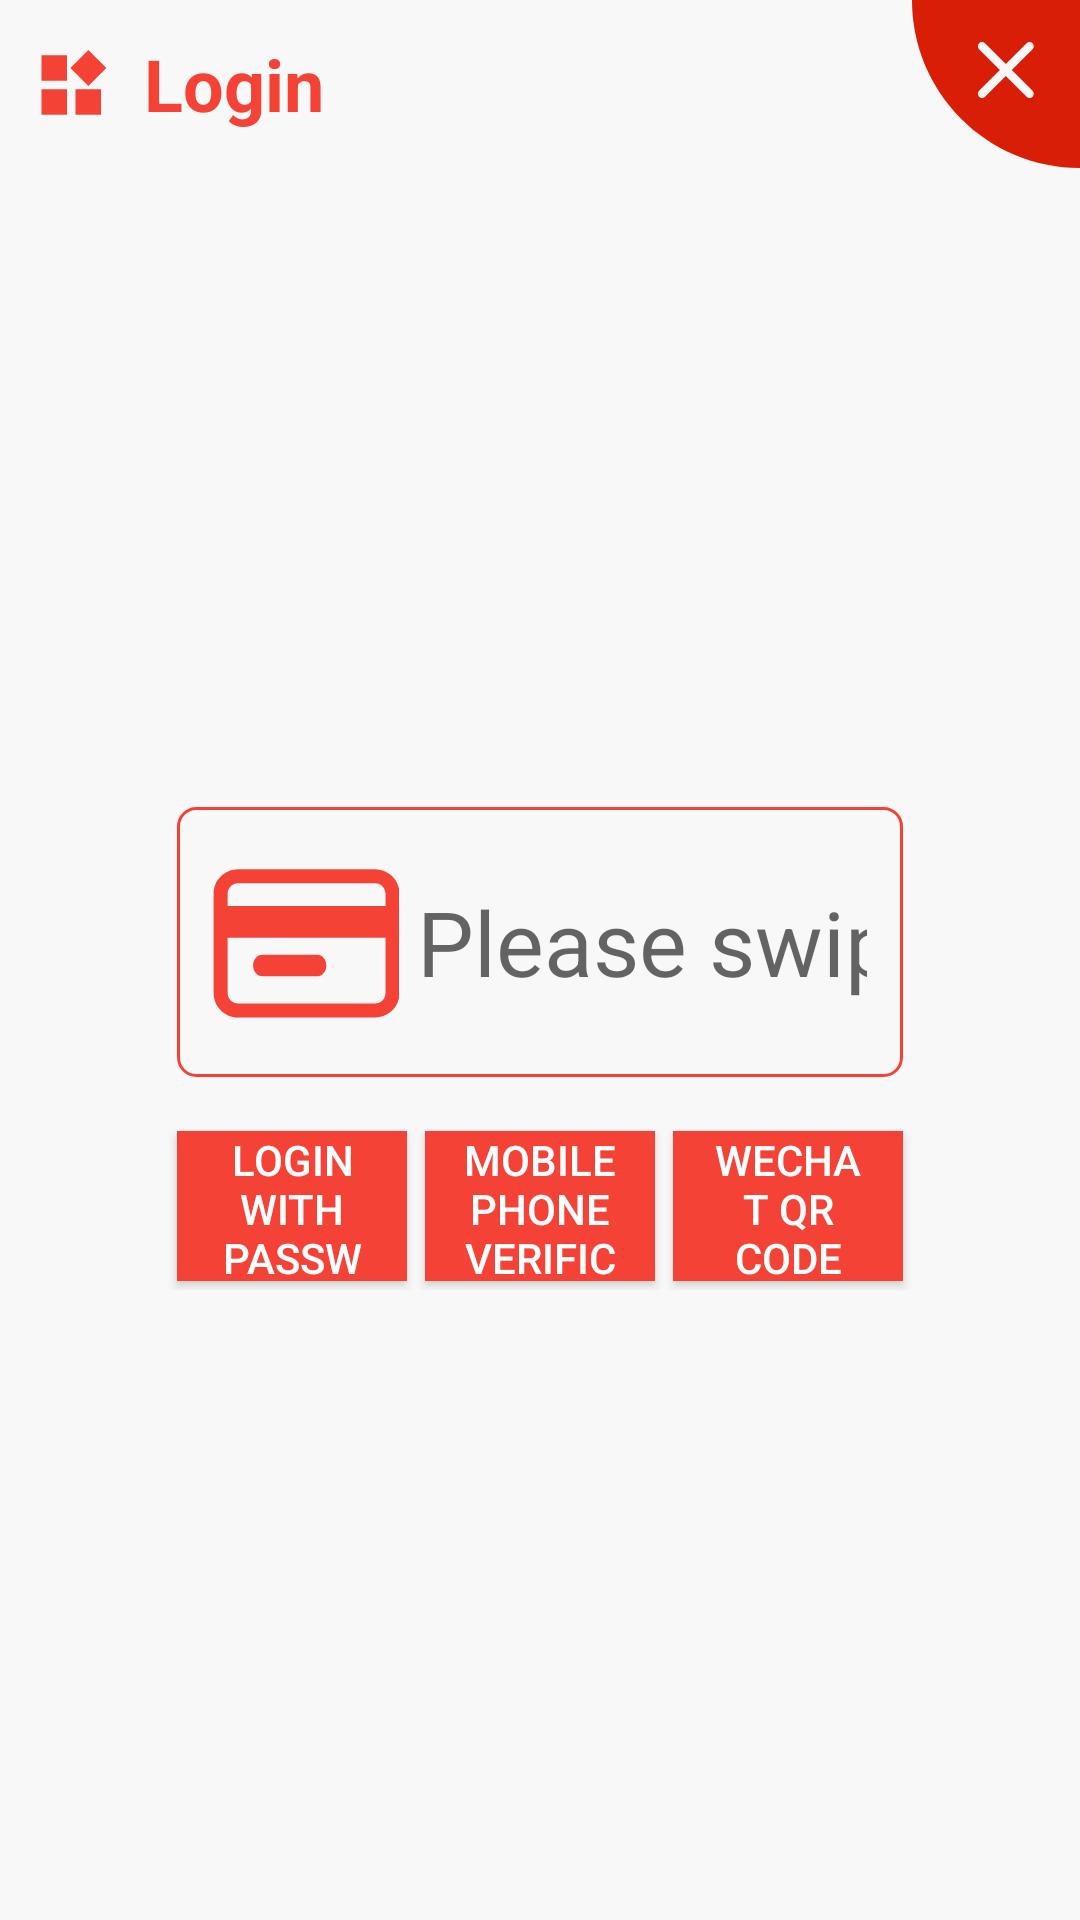

Where icons sit on this 1080px x 1920px app screen, as (left=x1, top=y1, right=x2, bottom=y2):
close: (left=912, top=0, right=1080, bottom=168)
